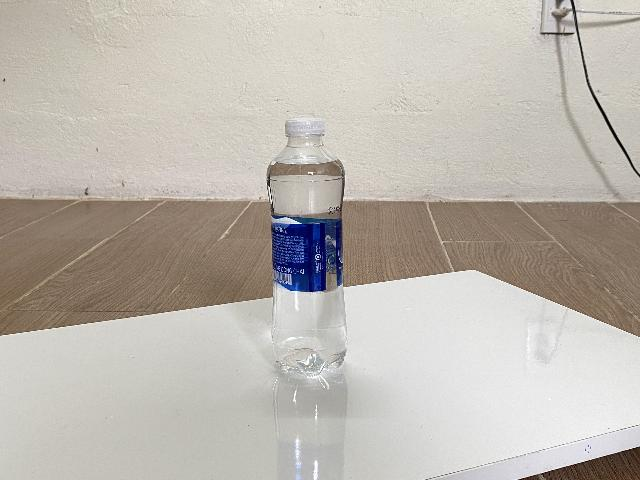aquafina: (266, 117, 348, 377)
